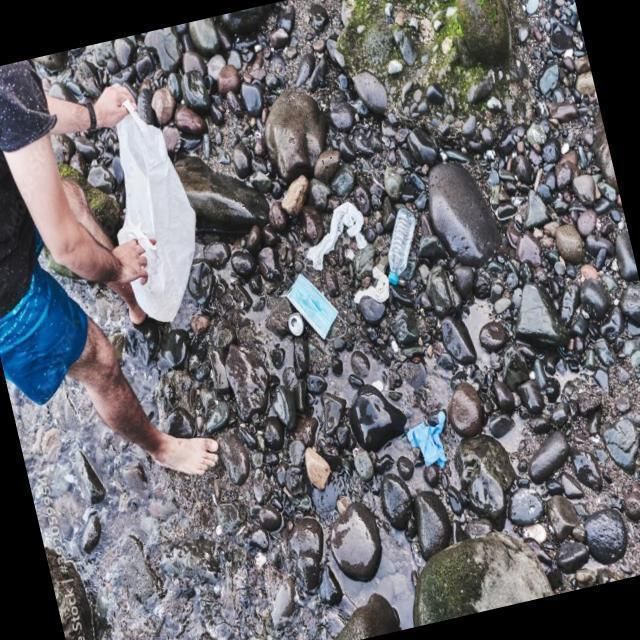Plastic_Bag: (76, 77, 223, 344)
